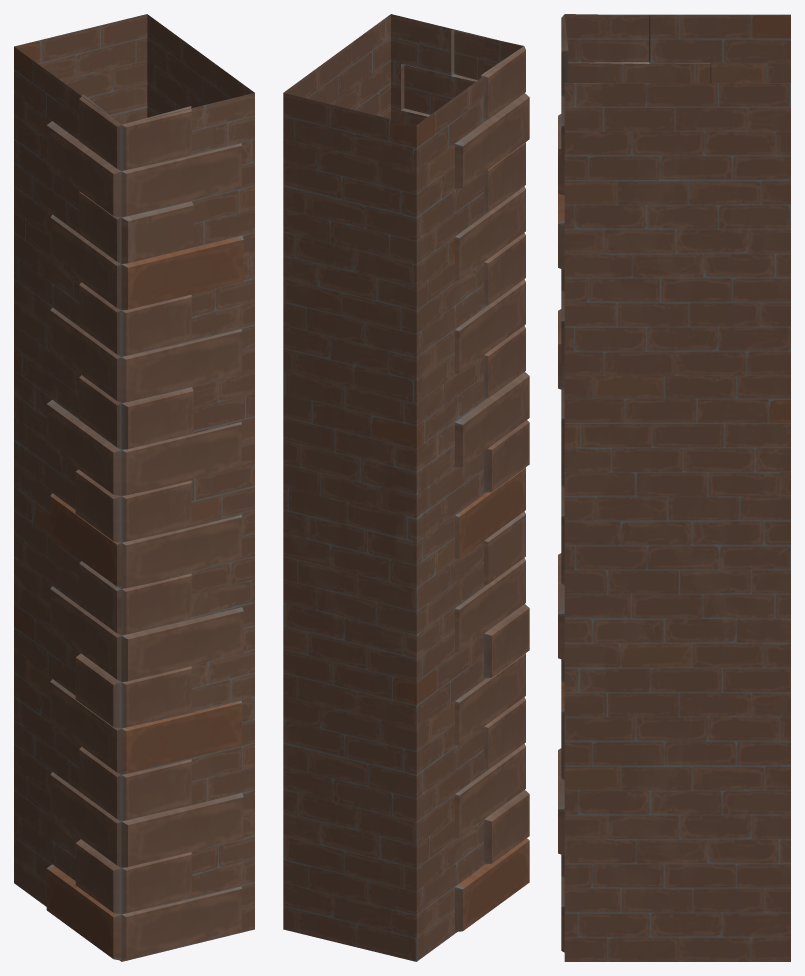
The model's file is Brick_Column_RedBricks.gltf.
The picture shows the model from 3 angles, left to right: view 1: azimuth 30°, elevation 25°; view 2: azimuth 150°, elevation 25°; view 3: azimuth 270°, elevation 25°; orthographic projection. The views are drawn at different scales.
Parts seen in each view (by area): view 1: Brick_Column_RedBricks; view 2: Brick_Column_RedBricks; view 3: Brick_Column_RedBricks.
Boxes of the visible parts, x1,y1,x2,y2 form: Brick_Column_RedBricks: [14, 14, 254, 961]; Brick_Column_RedBricks: [283, 14, 529, 961]; Brick_Column_RedBricks: [558, 14, 790, 961].
Size of the model in its own units: 0.5258 by 3 by 0.7202.
Materials: 1 (1 with a texture image).
